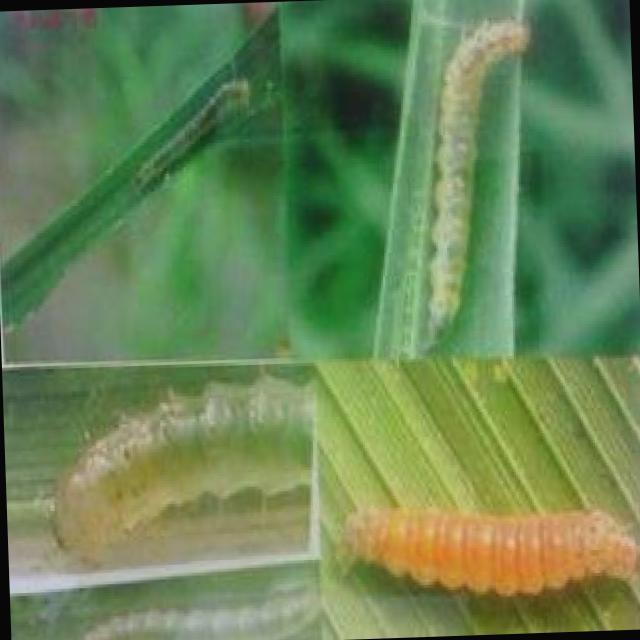leaf folder: (55, 376, 310, 567), (430, 19, 529, 329), (113, 43, 265, 216), (346, 508, 639, 595)
